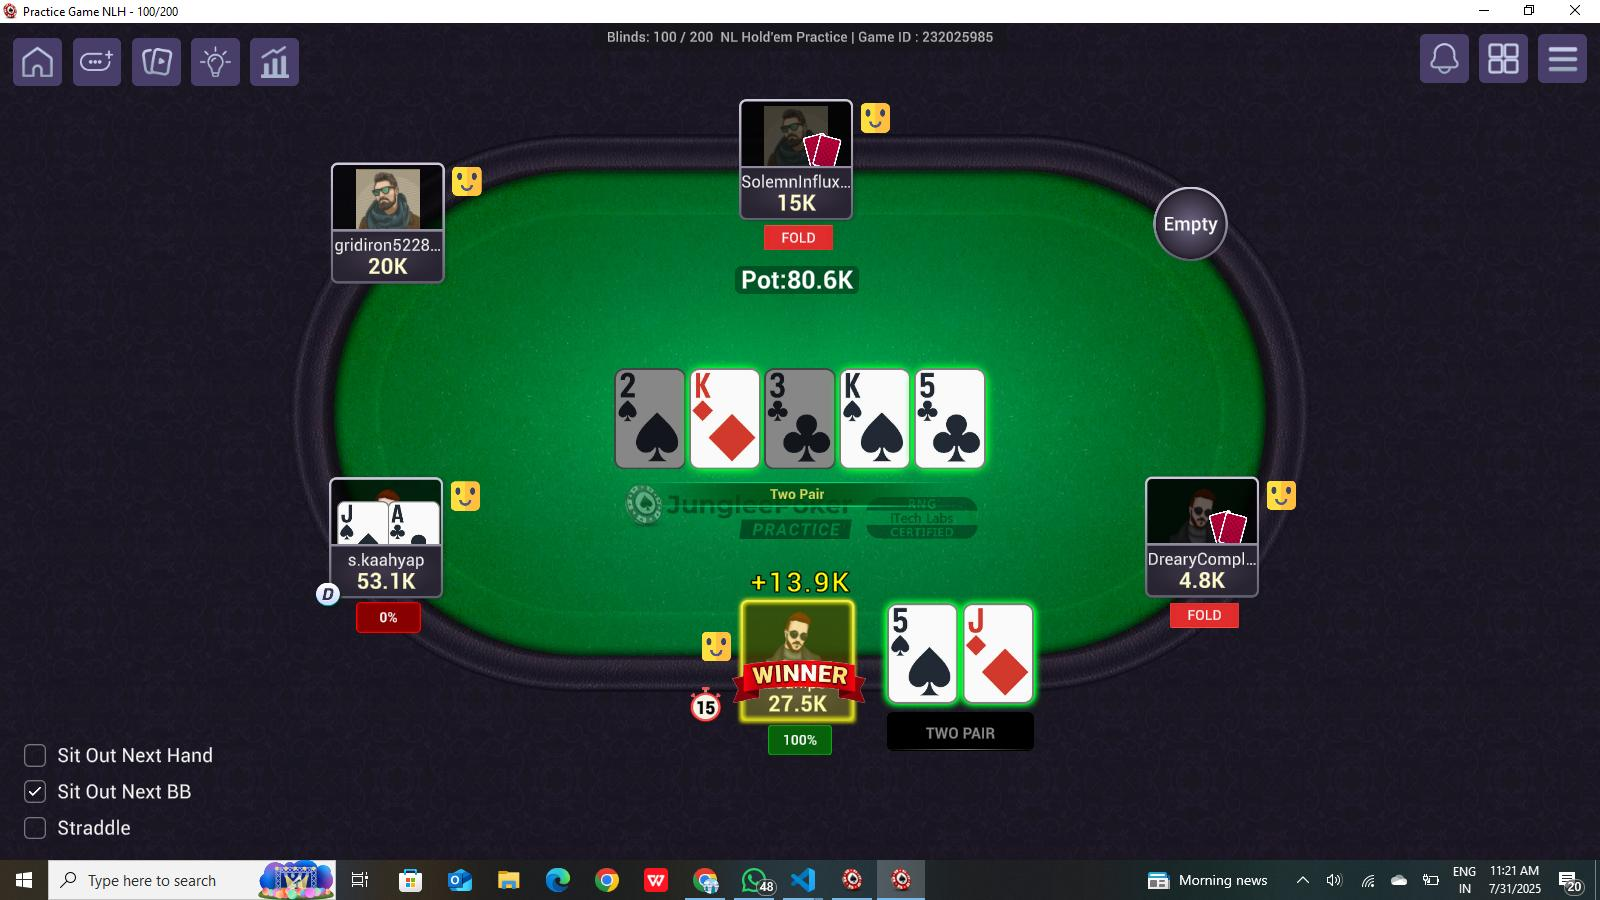card1_rank: (887, 607, 929, 635)
card1_suite_spades: (902, 636, 955, 702), (964, 603, 1005, 640)
flop1_rank: (616, 371, 649, 403)
flop1_suite_spades: (632, 407, 687, 468)
flop2_rank: (690, 368, 729, 409)
flop2_suite_diamond: (698, 403, 760, 467)
flop3_rank: (764, 371, 807, 405)
flop3_suite_club: (774, 410, 835, 468)
game_id: (855, 26, 1009, 48)
river_rank: (919, 370, 964, 402)
river_suite_club: (929, 409, 984, 470)
turn_rank: (840, 370, 875, 407)
turn_suite_spades: (854, 409, 912, 468)
villian1_name: (333, 540, 443, 574)
villian1_stack: (345, 571, 425, 593)
villian2_name: (333, 233, 443, 255)
villian2_stack: (357, 254, 412, 284)
villian3_name: (743, 171, 851, 193)
villian3_stack: (764, 185, 829, 215)
